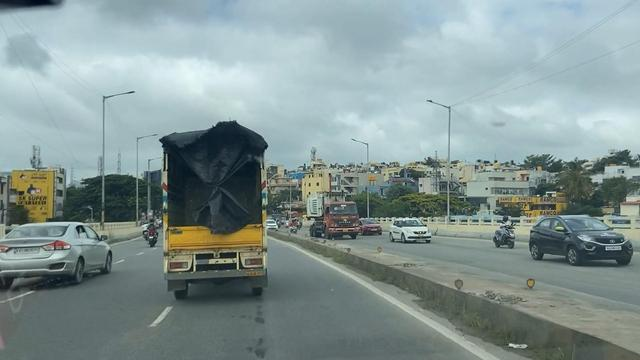HMV: (161, 113, 271, 302), (301, 186, 363, 244)
